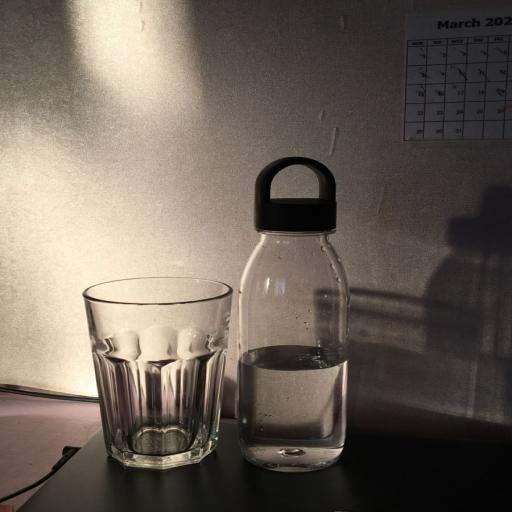bench: (237, 157, 349, 472)
stroller: (19, 424, 511, 512)
